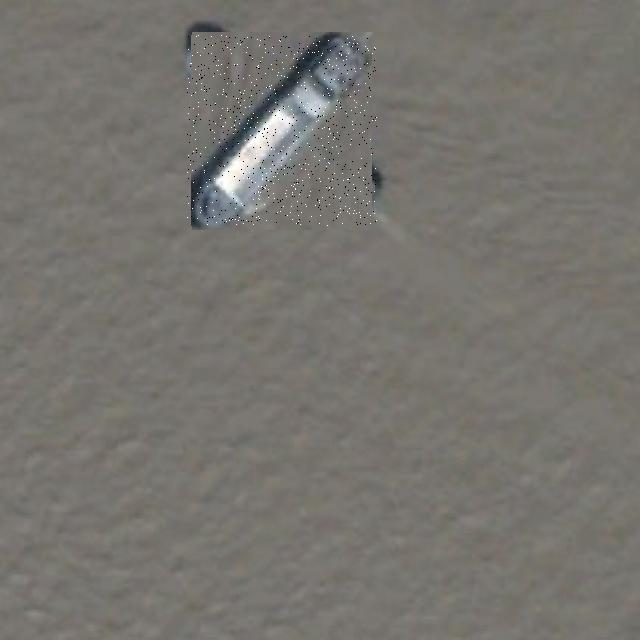boat: (188, 35, 378, 226)
